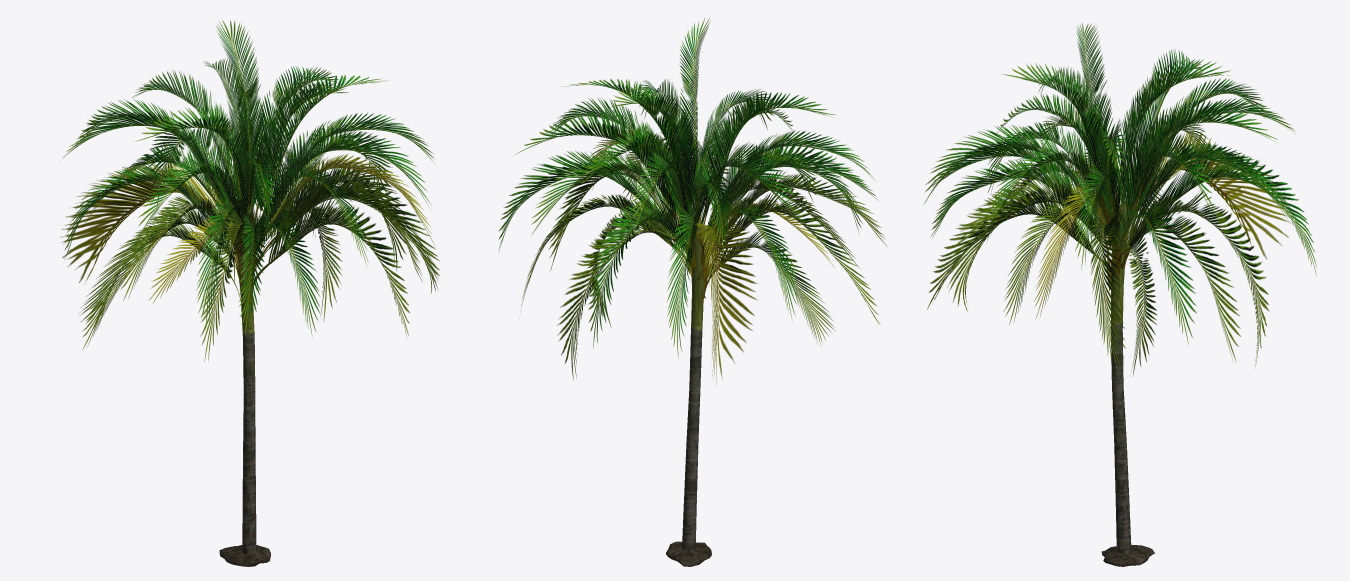
File: CoconutTree_4K.glb
3 views of the same model, side by side, from view 1: azimuth 30°, elevation 25°; view 2: azimuth 150°, elevation 25°; view 3: azimuth 270°, elevation 25° (orthographic). The views are drawn at different scales.
Parts seen in each view (by area): view 1: XI_SP_Tree.Shape; view 2: XI_SP_Tree.Shape; view 3: XI_SP_Tree.Shape.
Part boxes in pixels (x1,y1,x2,y2): XI_SP_Tree.Shape: (60,20,439,566); XI_SP_Tree.Shape: (498,17,886,566); XI_SP_Tree.Shape: (924,23,1316,566).
Bounding box in the file's own units: 6.35 × 8.55 × 6.23.
Materials: 2 (2 with a texture image).
